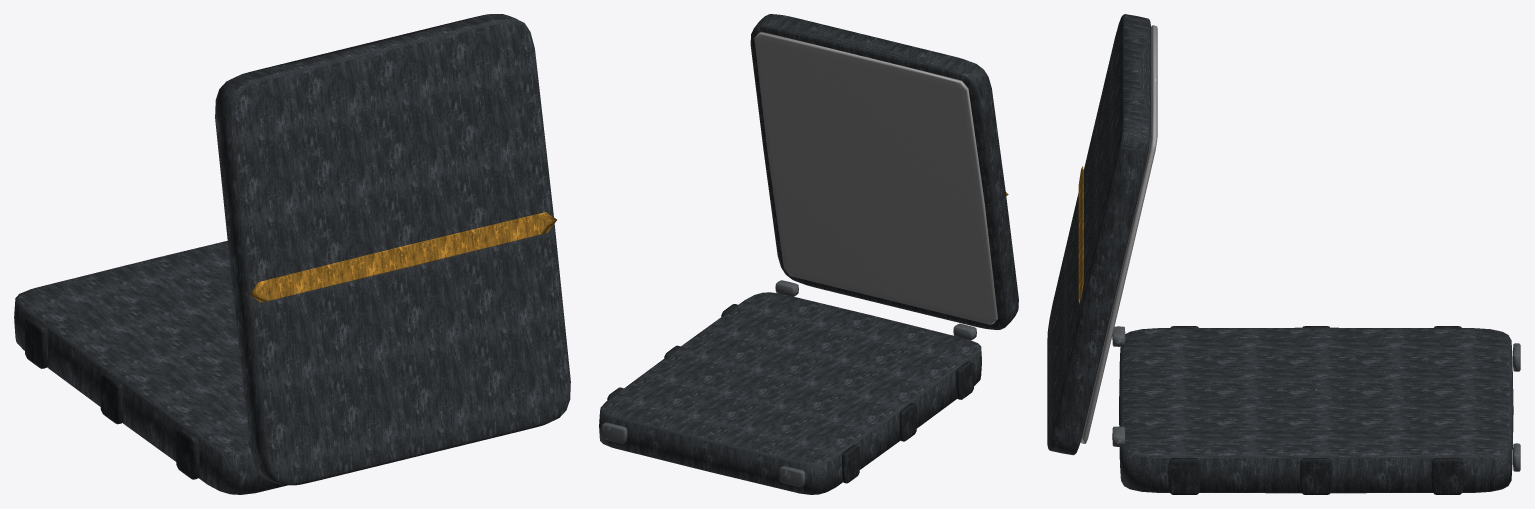
File: arms_case.glb
3 views of the same model, side by side, from view 1: azimuth 30°, elevation 25°; view 2: azimuth 150°, elevation 25°; view 3: azimuth 270°, elevation 25° (orthographic). The views are drawn at different scales.
Visible parts, largest first — view 1: arms_case; view 2: arms_case; view 3: arms_case.
Part boxes in pixels (x1=…): arms_case: x1=14, y1=14, x2=570, y2=494; arms_case: x1=599, y1=14, x2=1018, y2=494; arms_case: x1=1047, y1=14, x2=1520, y2=494.
Bounding box in the file's own units: 0.9734 × 1.21 × 1.44.
Materials: 3 (3 with a texture image).
